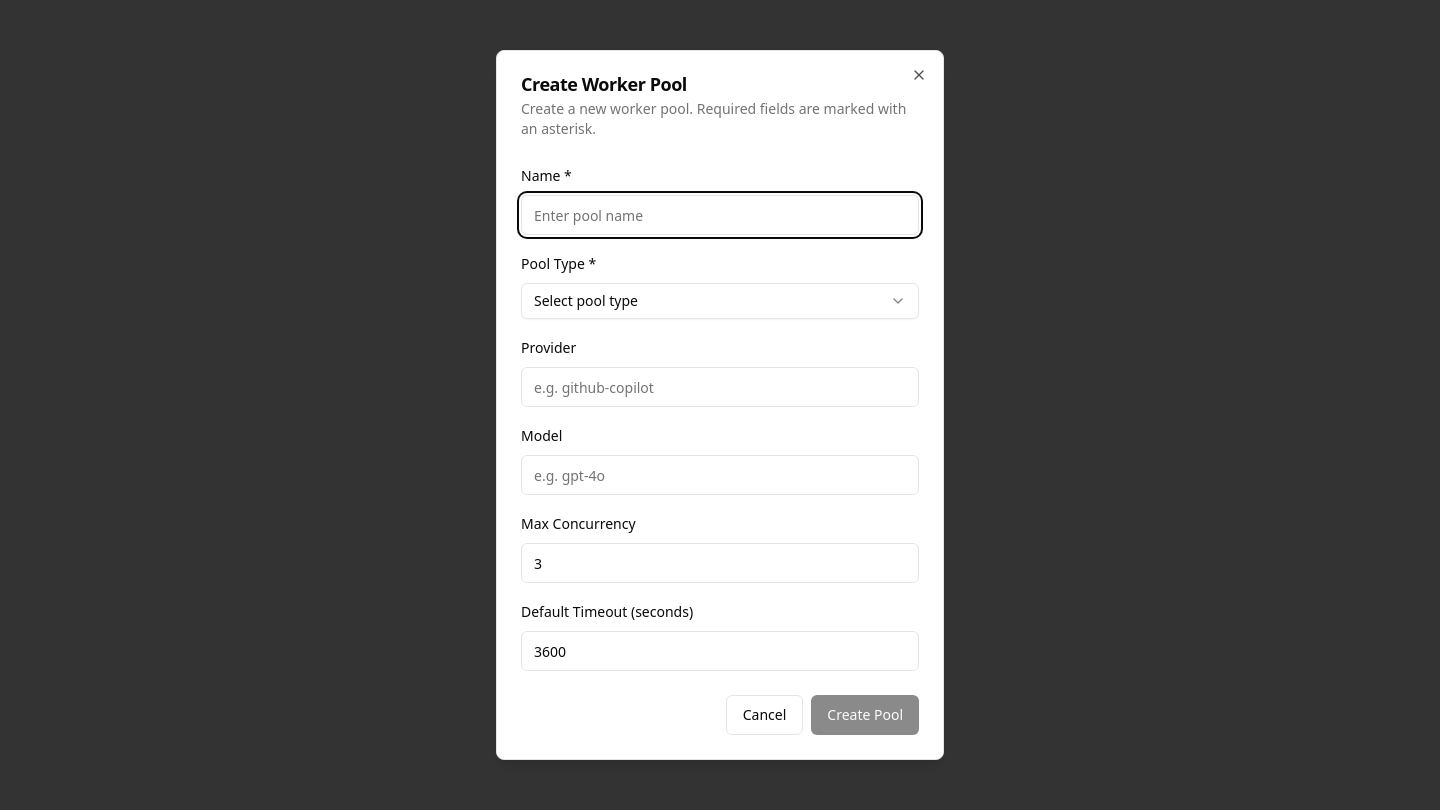
Test: CreatePoolDialog › displays API error and keeps dialog open on failure
The width and height of the screenshot is (1440, 810).
In the field with test id "create-pool-name": (720, 215) [521,195,919,235], type "Duplicate Pool"
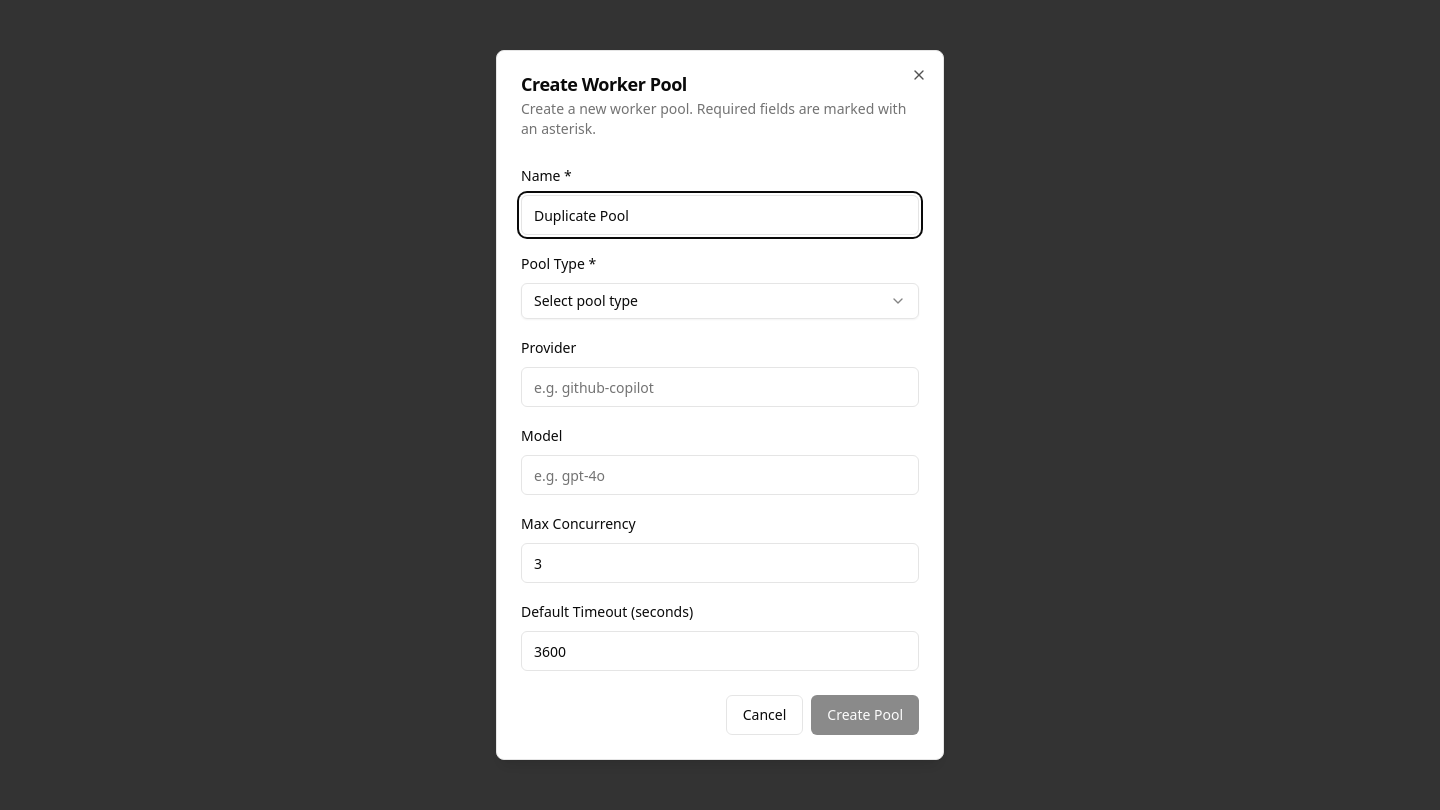
Click the dropdown with test id "create-pool-type": (586, 300) [521,283,919,319]
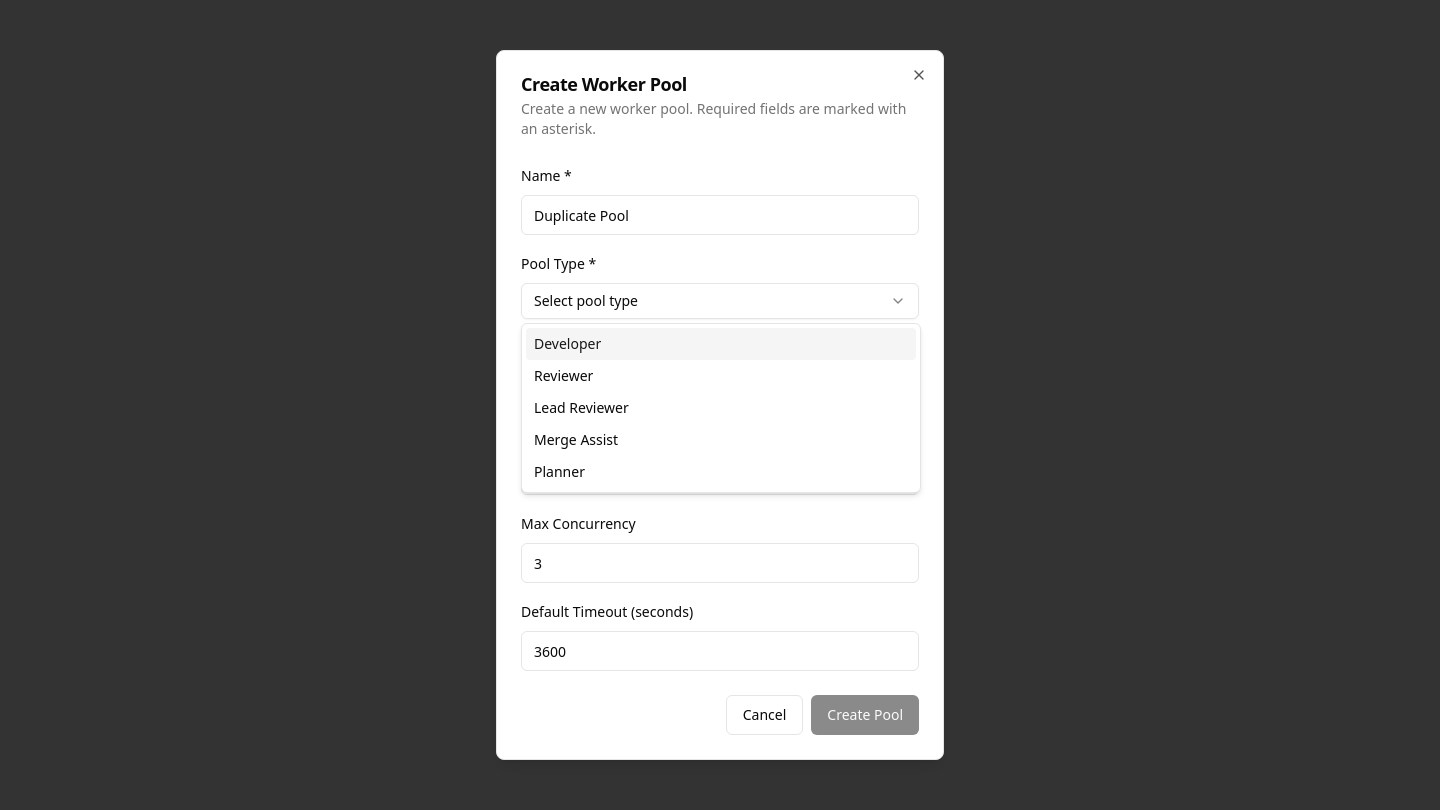
Expected: the option with test id "create-pool-type-developer" is shown
Click the option with test id "create-pool-type-developer": (568, 344) [526,328,916,360]
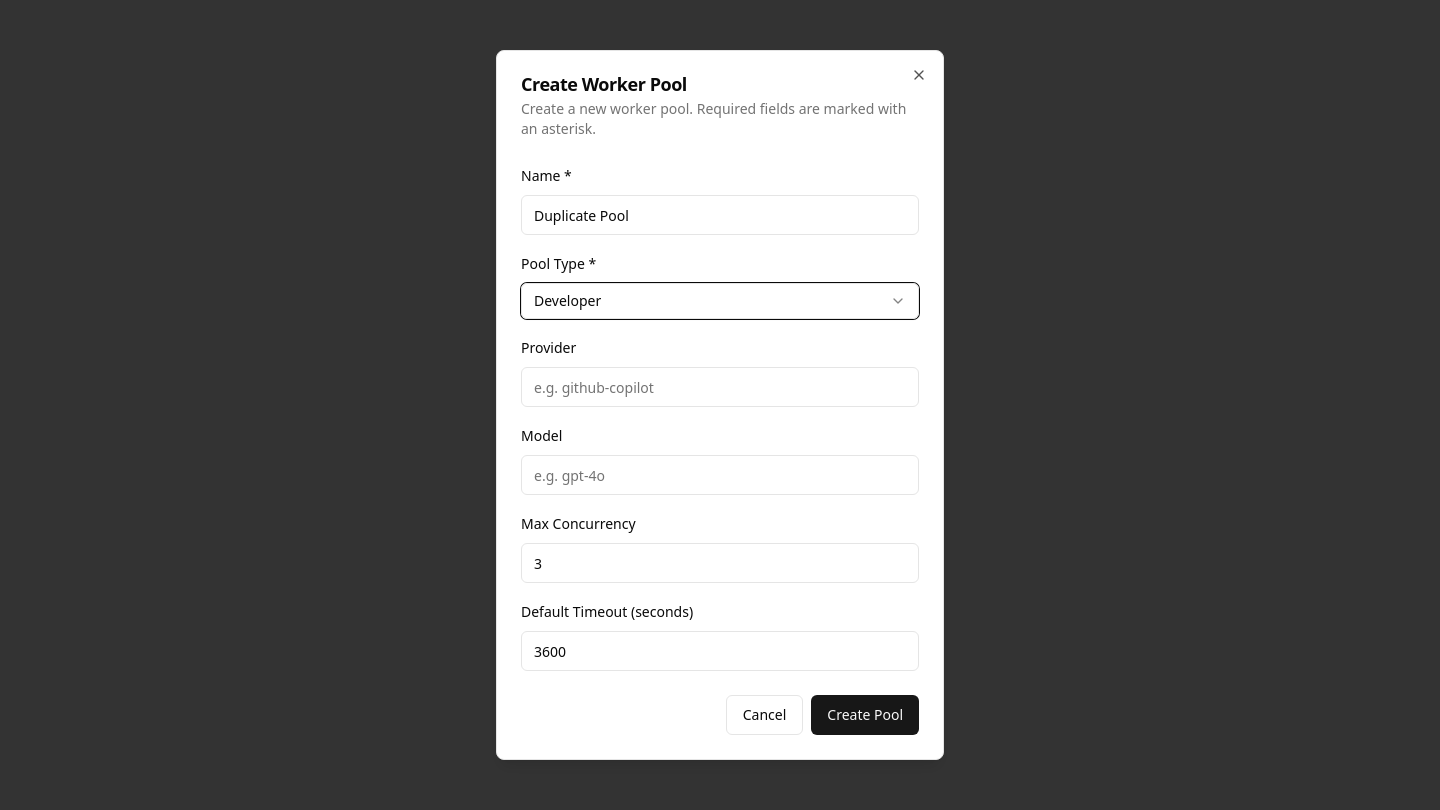
Expected: the button with test id "create-pool-submit" is enabled
Click the button with test id "create-pool-submit": (865, 715) [811,695,919,735]
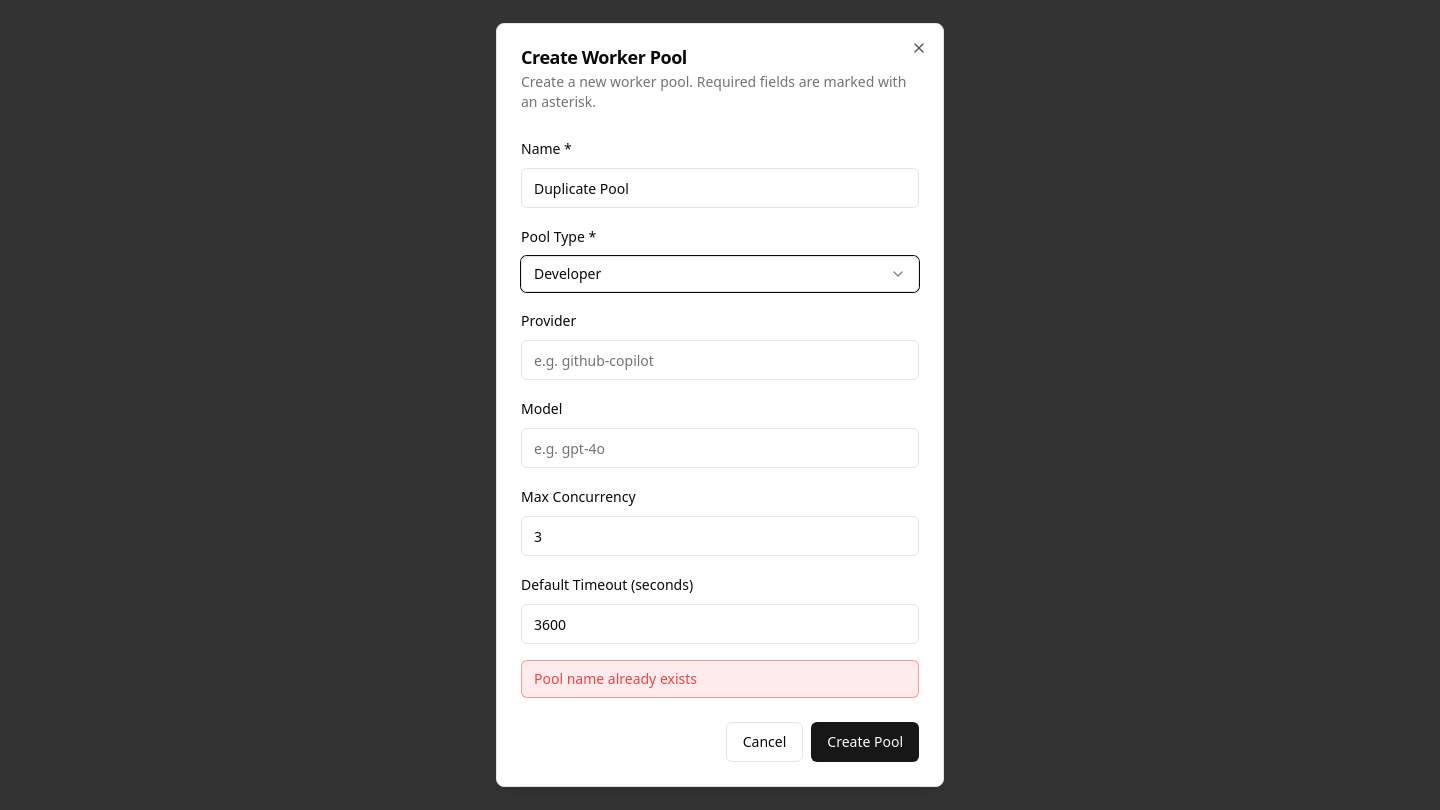
Expected: the message "Pool name already exists" is shown, [521,660,919,698]
